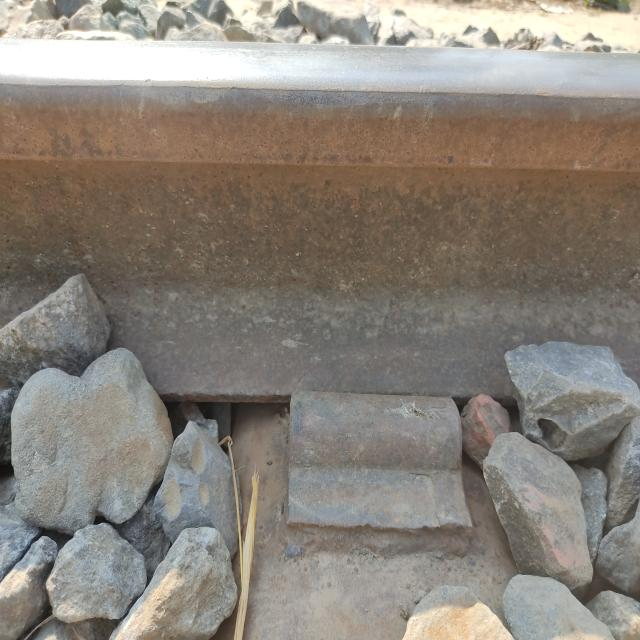defective: (281, 255, 507, 606)
